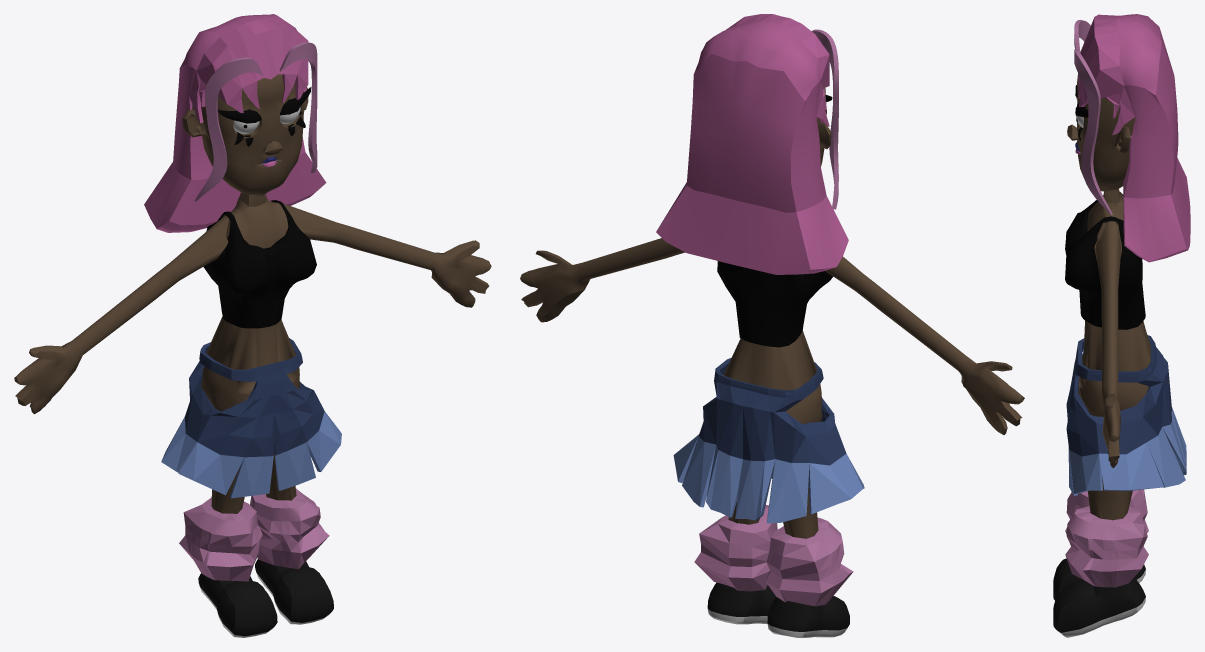
Rendered from Kuki.fbx.
3 views of the same model, side by side, from view 1: azimuth 30°, elevation 25°; view 2: azimuth 150°, elevation 25°; view 3: azimuth 270°, elevation 25° (orthographic). The views are drawn at different scales.
Parts seen in each view (by area): view 1: Cuerpo, Cinturon, Box002, PieD, PieI, Line001, Line002; view 2: Box002, Cuerpo, Cinturon, PieI, PieD, Line001; view 3: Cuerpo, Box002, Cinturon, PieD, Line002, PieI, Line001.
Boxes of the visible parts, x1,y1,x2,y2 form: Cuerpo: [14, 74, 491, 581]; Cinturon: [161, 338, 341, 498]; Box002: [144, 14, 326, 232]; PieD: [255, 559, 333, 624]; PieI: [198, 573, 277, 637]; Line001: [194, 57, 263, 201]; Line002: [279, 42, 317, 172]; Box002: [656, 14, 848, 274]; Cuerpo: [520, 86, 1024, 606]; Cinturon: [673, 357, 864, 523]; PieI: [767, 596, 849, 637]; PieD: [707, 582, 776, 624]; Line001: [811, 29, 838, 209]; Cuerpo: [1065, 73, 1150, 587]; Box002: [1078, 14, 1190, 262]; Cinturon: [1066, 335, 1186, 495]; PieD: [1053, 576, 1145, 637]; Line002: [1074, 49, 1112, 215]; PieI: [1053, 558, 1145, 600]; Line001: [1074, 20, 1090, 52].
Size of the model in its own units: 128 by 152 by 31.87.
